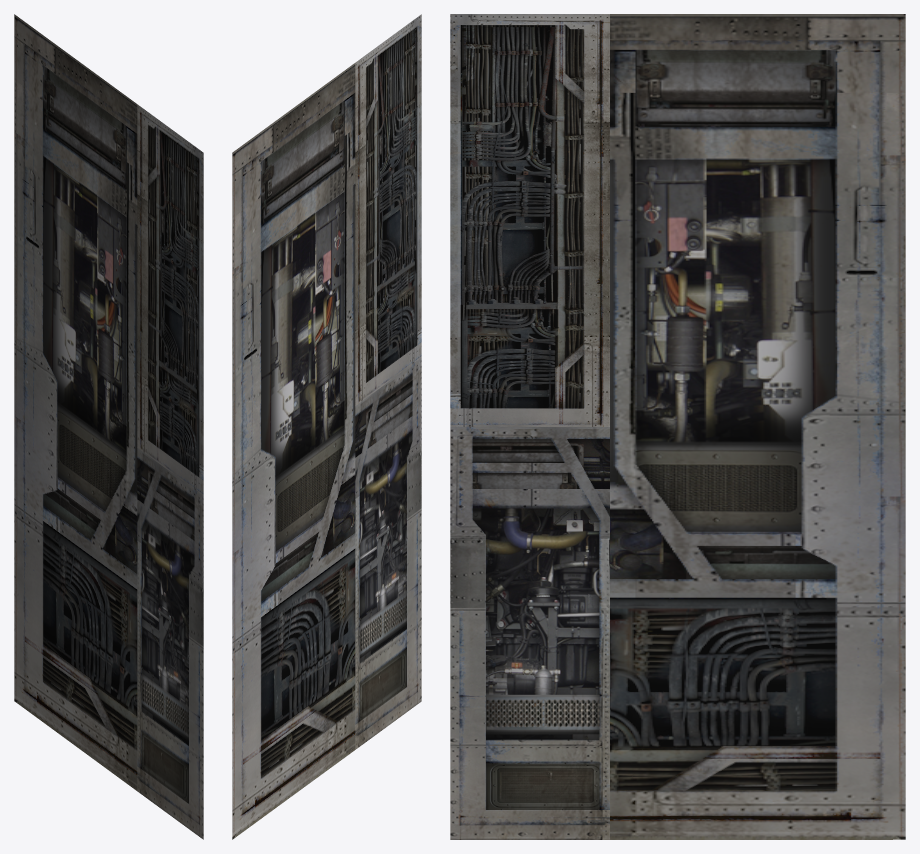
Rendered from Wall_J_Giant10mts_02.fbx.
3 renders of one model, left to right at view 1: azimuth 30°, elevation 25°; view 2: azimuth 150°, elevation 25°; view 3: azimuth 270°, elevation 25°, orthographic. The views are drawn at different scales.
Parts seen in each view (by area): view 1: Wall_J_Giant10mts_02; view 2: Wall_J_Giant10mts_02; view 3: Wall_J_Giant10mts_02.
Boxes of the visible parts, x1=… form: Wall_J_Giant10mts_02: x1=14, y1=14, x2=203, y2=839; Wall_J_Giant10mts_02: x1=232, y1=14, x2=421, y2=839; Wall_J_Giant10mts_02: x1=450, y1=14, x2=905, y2=839.
Size of the model in its own units: 0.00195 by 2000 by 1000.
Materials: 1 (1 with a texture image).
